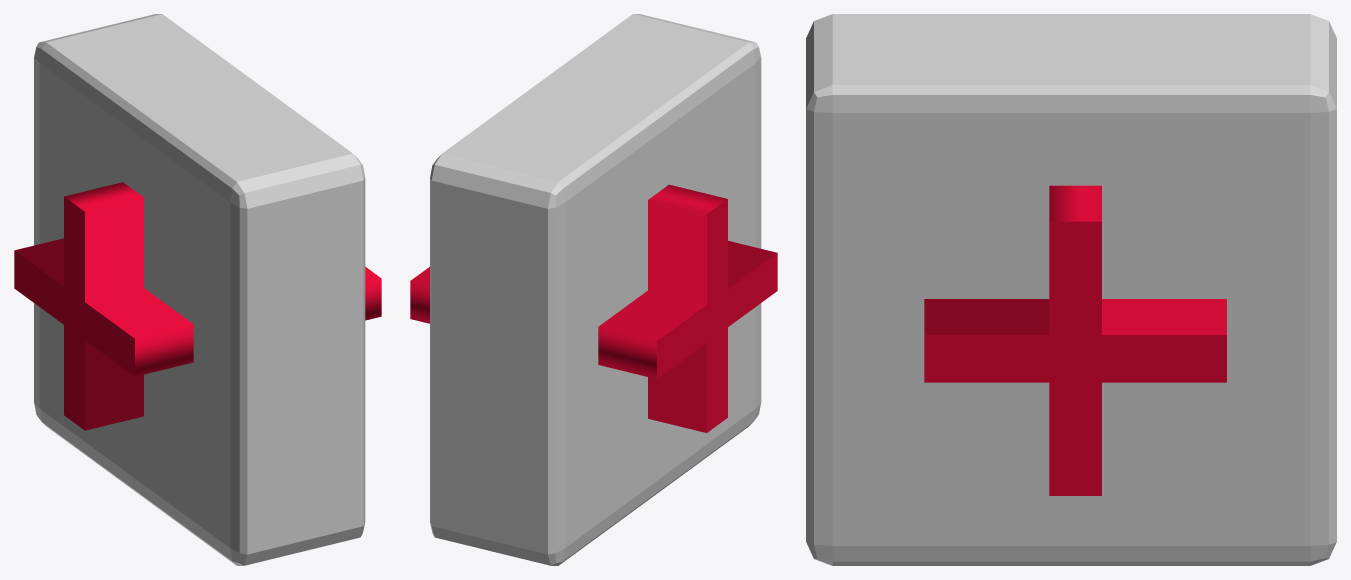
File: ItemHealth.fbx
3 renders of one model, left to right at view 1: azimuth 30°, elevation 25°; view 2: azimuth 150°, elevation 25°; view 3: azimuth 270°, elevation 25°, orthographic. The views are drawn at different scales.
Parts seen in each view (by area): view 1: Cube, Text; view 2: Cube, Text; view 3: Cube, Text.
Boxes of the visible parts, bbox=[...] form: Cube: bbox=[34, 14, 365, 565]; Text: bbox=[14, 182, 381, 430]; Cube: bbox=[430, 14, 761, 565]; Text: bbox=[410, 184, 777, 432]; Cube: bbox=[806, 14, 1336, 565]; Text: bbox=[924, 185, 1226, 495].
Size of the model in its own units: 208 by 309 by 309.
